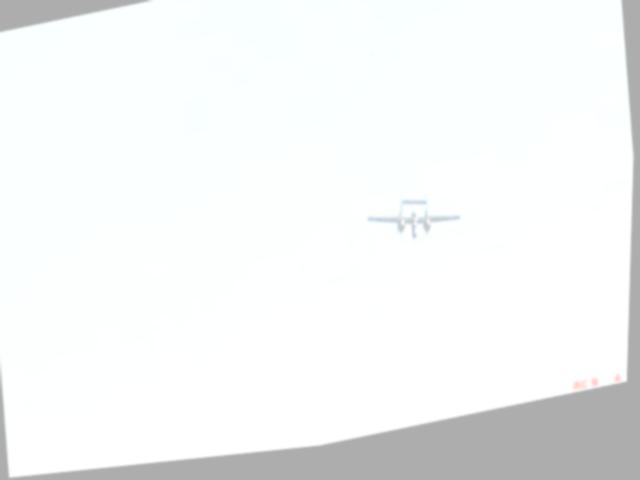uav: (358, 181, 473, 269)
